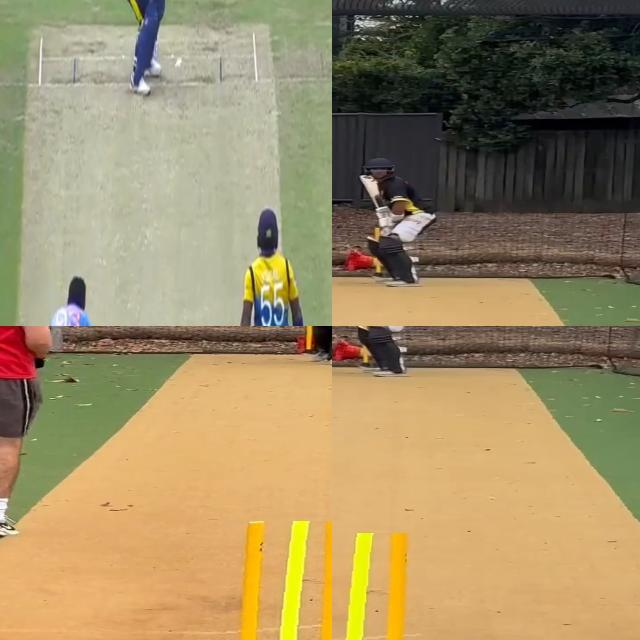Cricket ball: (174, 55, 184, 73)
Stumps: (225, 521, 332, 640), (332, 532, 428, 640)
